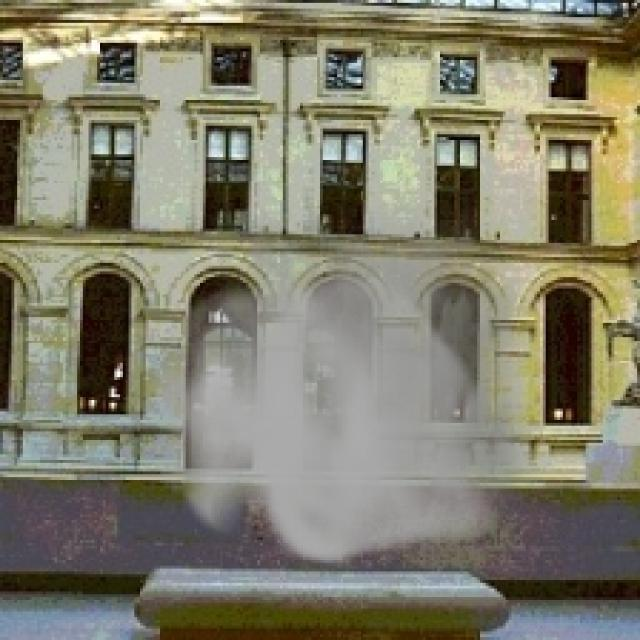Smoke: (148, 166, 546, 572)
